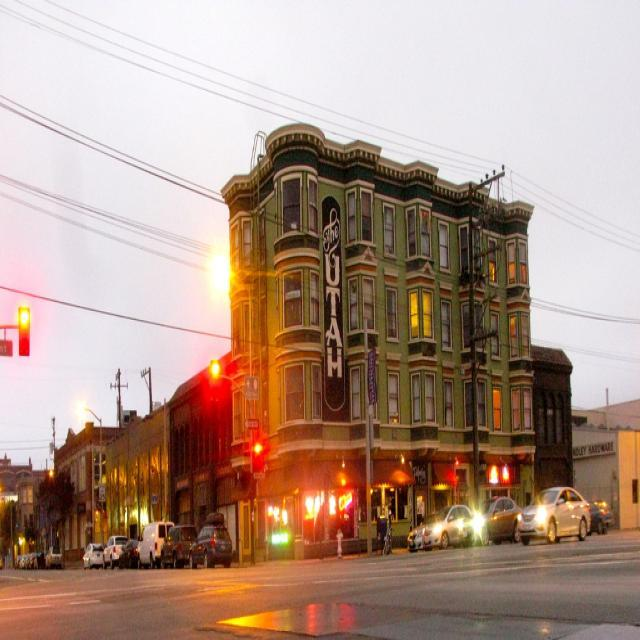traffic light: (18, 308, 30, 360), (210, 360, 219, 394)
